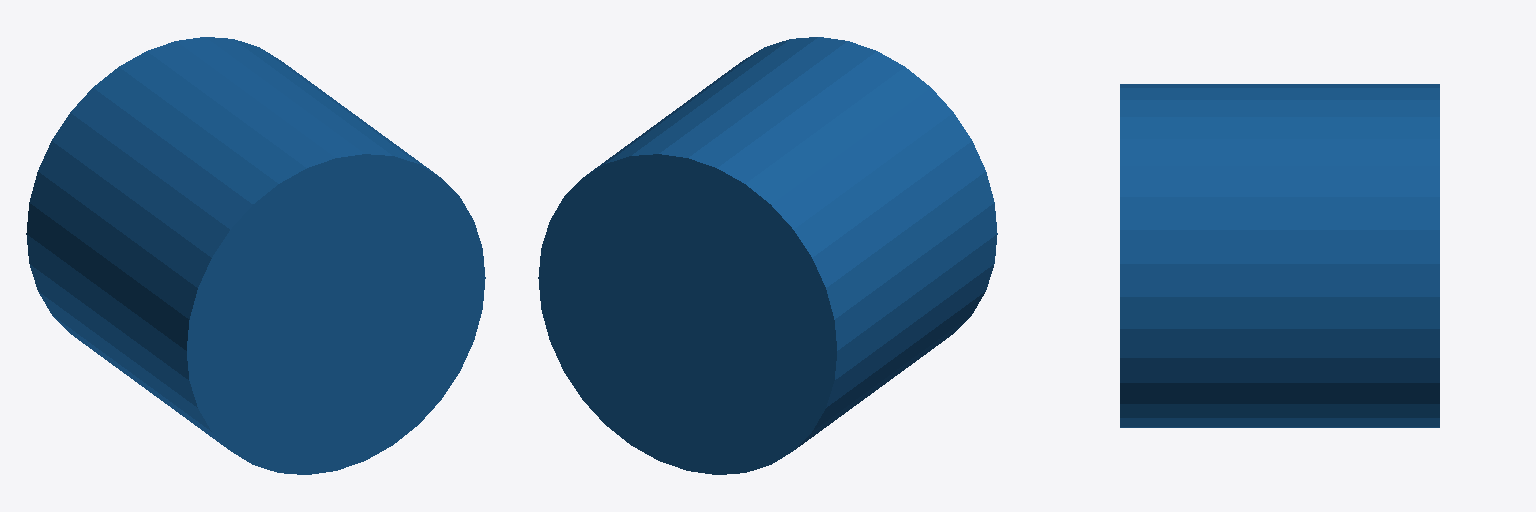
File: arm_link5.OBJ
3 views of the same model, side by side, from view 1: azimuth 30°, elevation 25°; view 2: azimuth 150°, elevation 25°; view 3: azimuth 270°, elevation 25° (orthographic).
Visible parts, largest first — view 1: arm_link5_Cylinder.003; view 2: arm_link5_Cylinder.003; view 3: arm_link5_Cylinder.003.
Boxes of the visible parts, x1=… form: arm_link5_Cylinder.003: x1=26, y1=37, x2=485, y2=474; arm_link5_Cylinder.003: x1=538, y1=37, x2=997, y2=474; arm_link5_Cylinder.003: x1=1120, y1=84, x2=1439, y2=427.
Bounding box in the file's own units: 0.2494 × 0.2494 × 0.2315.